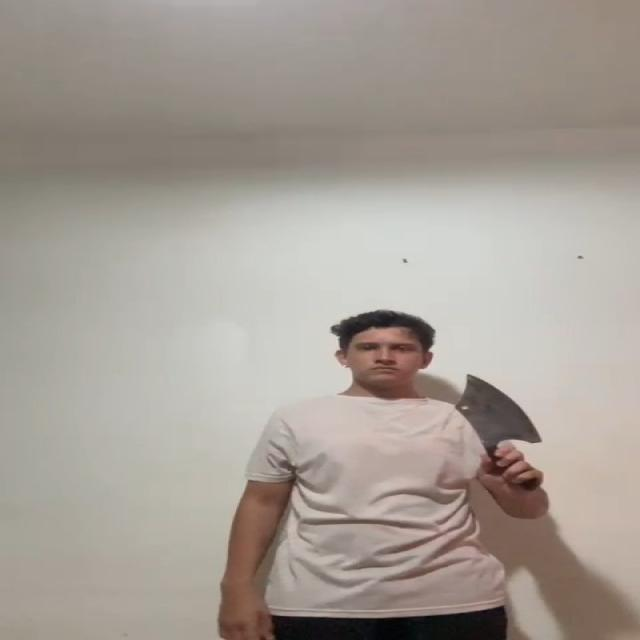knife: (448, 372, 540, 449)
